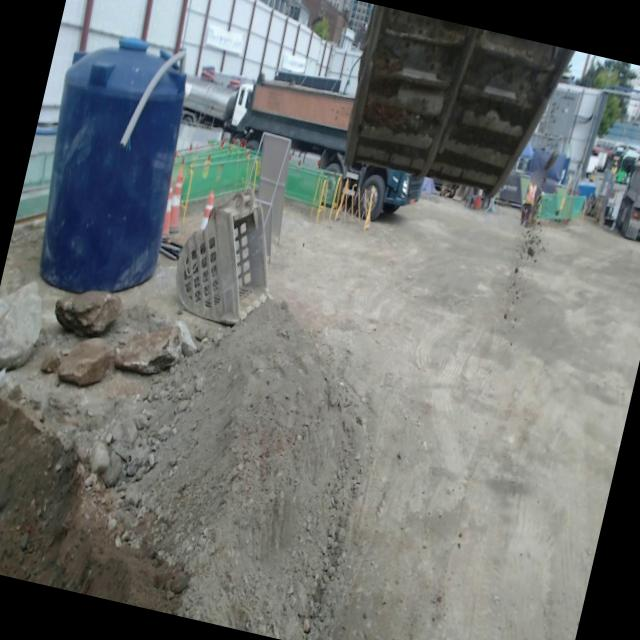red-sand: (0, 199, 640, 640)
rocks: (0, 370, 177, 487)
stone: (114, 321, 196, 374), (0, 281, 42, 368), (54, 291, 122, 336), (56, 338, 115, 386)
